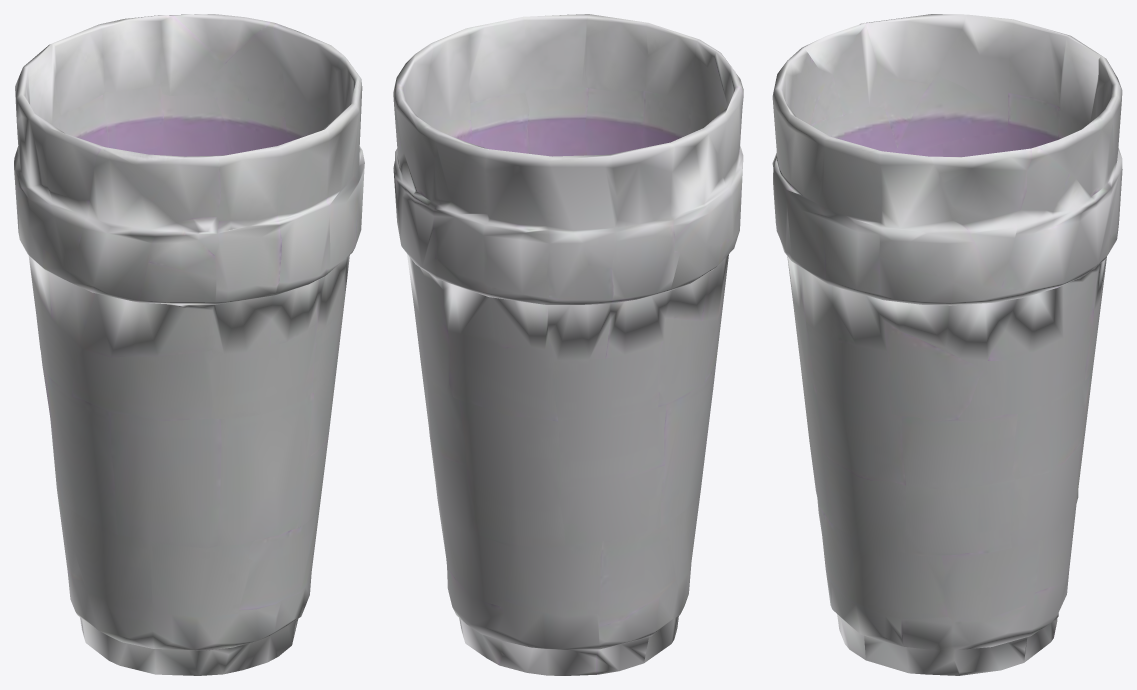
The model's file is lean-cup.glb.
3 views of the same model, side by side, from view 1: azimuth 30°, elevation 25°; view 2: azimuth 150°, elevation 25°; view 3: azimuth 270°, elevation 25° (orthographic).
Size of the model in its own units: 1.1 by 1.9 by 1.1.
1 material, 1 textured.
